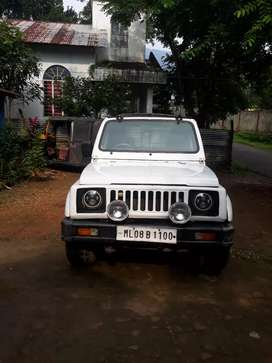ML08B1100: (116, 225, 176, 244)
